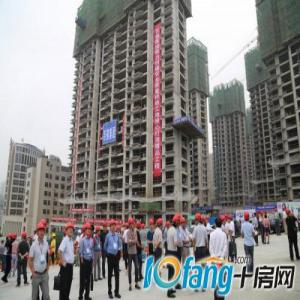none: (215, 217, 224, 230)
red: (37, 224, 46, 241), (67, 223, 76, 238), (110, 219, 118, 233), (195, 214, 203, 227), (129, 217, 136, 231), (173, 215, 180, 228), (86, 222, 92, 237), (157, 218, 164, 230), (181, 216, 187, 229), (149, 219, 155, 232), (286, 207, 293, 218), (244, 212, 251, 223), (21, 232, 28, 243), (137, 220, 143, 232), (221, 216, 227, 227), (96, 225, 102, 236), (228, 215, 234, 224), (166, 221, 171, 230), (117, 225, 122, 234), (103, 223, 108, 232), (13, 234, 18, 243)
white: (78, 230, 82, 236)
yellow: (52, 234, 57, 241)
